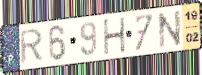6: (47, 24, 68, 63)
7: (133, 12, 155, 53)
9: (79, 21, 98, 58)
H: (101, 15, 127, 57)
N: (156, 8, 183, 50)
R: (19, 27, 46, 66)
